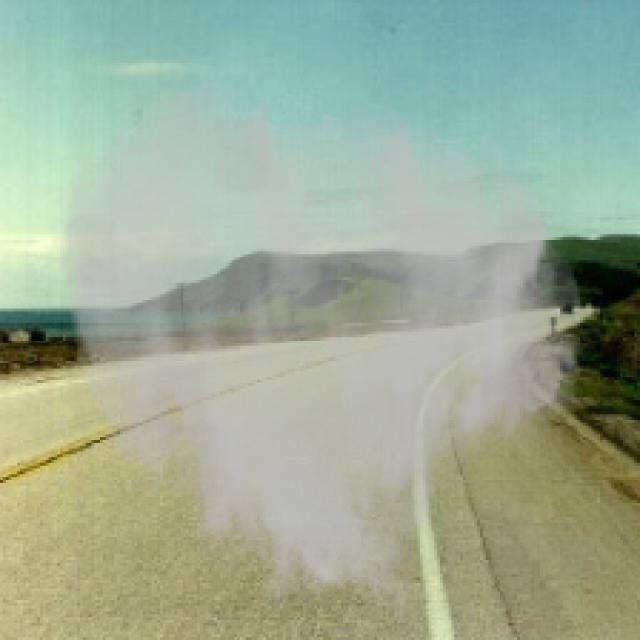smoke: (46, 77, 588, 626)
